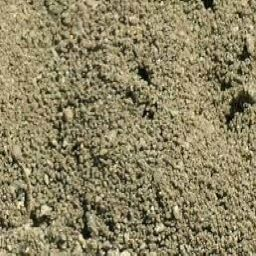dirt: (0, 0, 251, 251)
